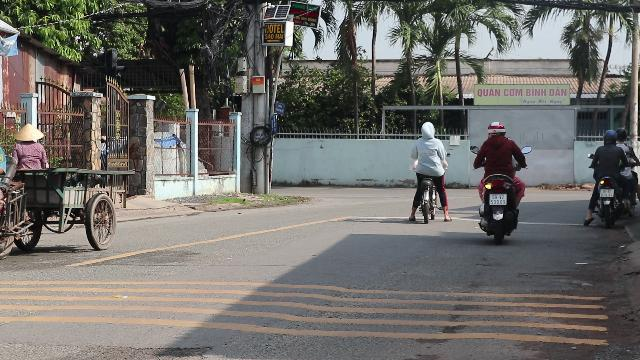helmet: (486, 121, 506, 138), (602, 129, 618, 145), (419, 121, 435, 136)
licenseplate: (490, 195, 506, 206), (600, 189, 614, 197)
motorcyclist: (473, 120, 527, 243), (584, 128, 638, 228), (406, 120, 452, 224)
